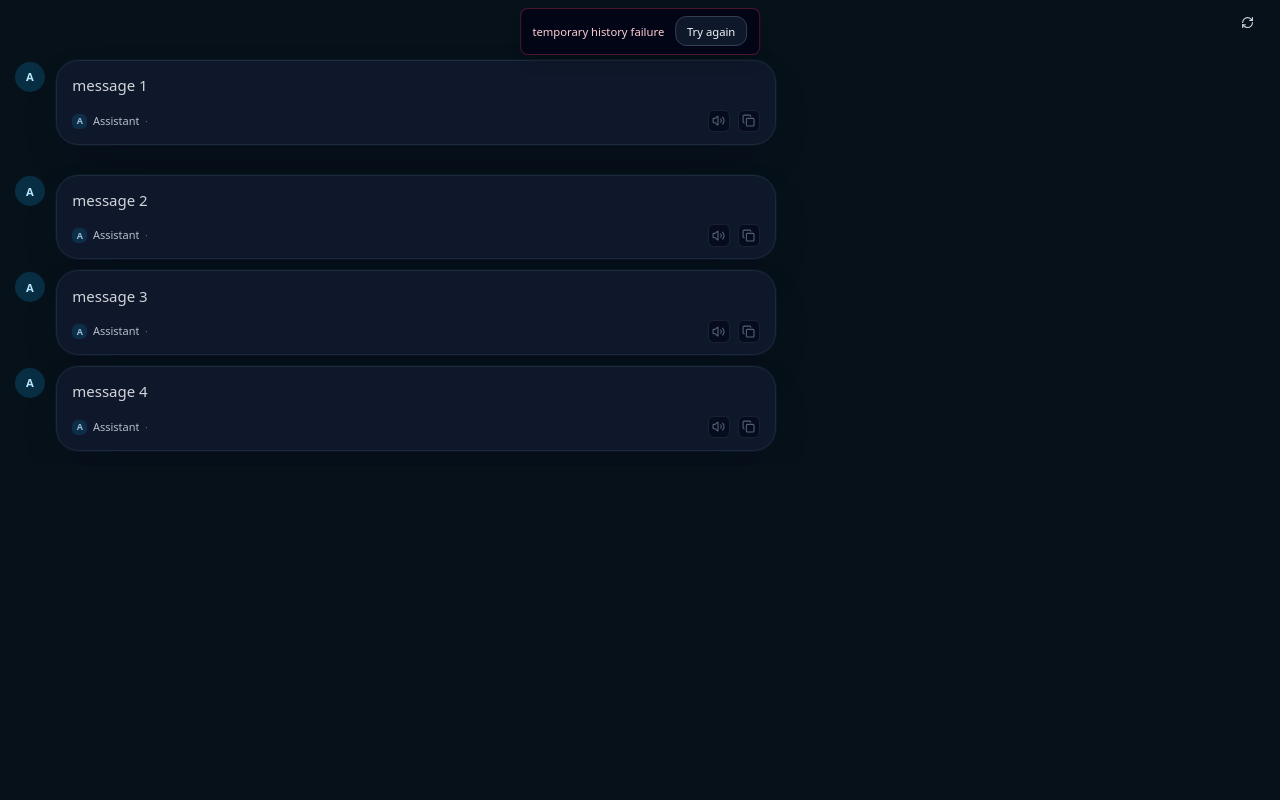
Scenario: ScopedChatV2Timeline history backfill › retries the same cursor after a transient backfill failure
The width and height of the screenshot is (1280, 800).
Expected: the text "message 4" is shown, x1=72 y1=381 x2=148 y2=401
Expected: the text "temporary history failure" is shown, x1=532 y1=24 x2=664 y2=38
Click the button "Try again". click: (711, 31)
box: x1=675 y1=16 x2=748 y2=46
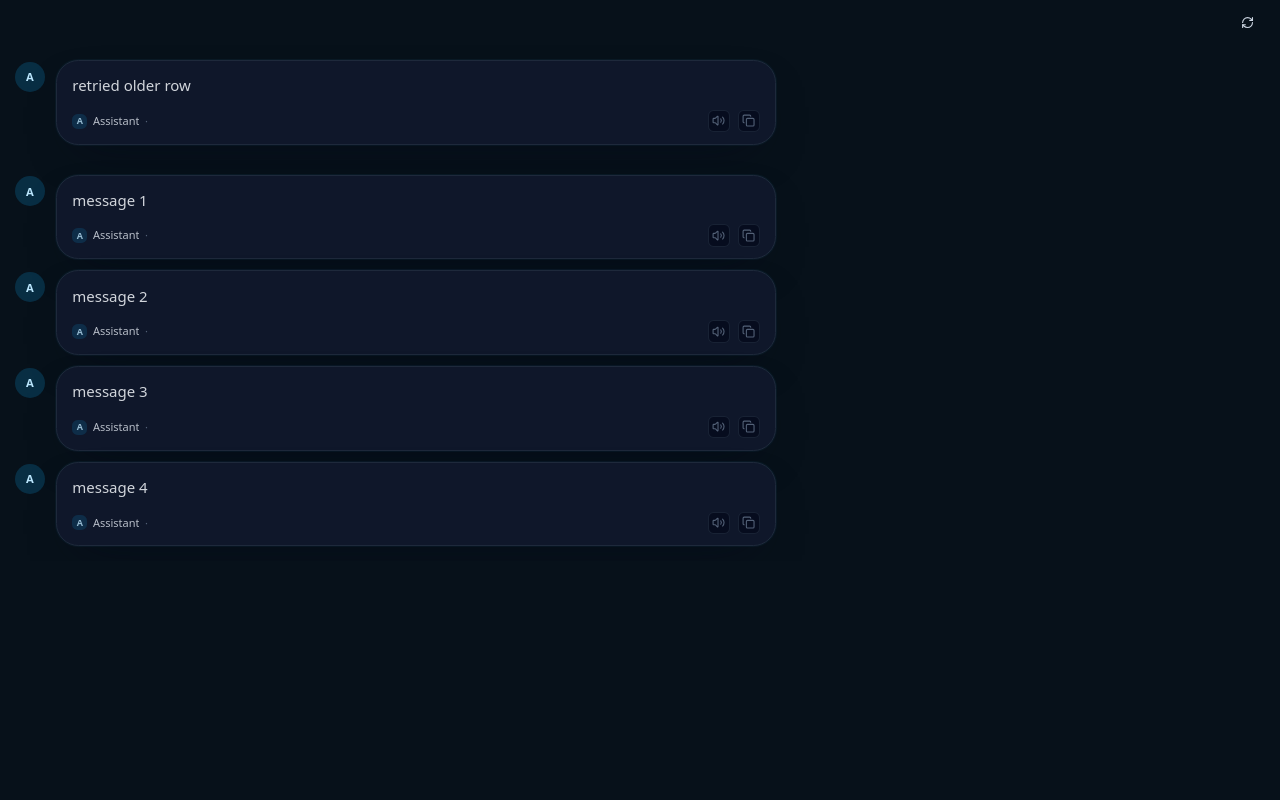
Expected: the text "retried older row" is shown, x1=72 y1=75 x2=191 y2=95
